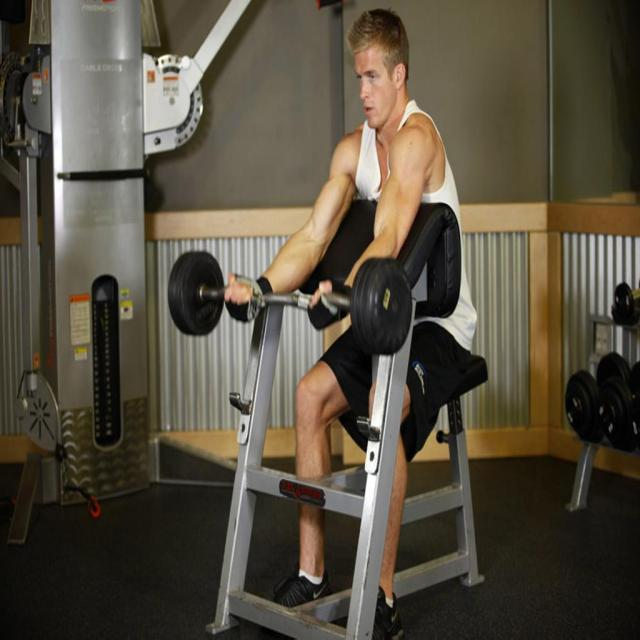Face: (358, 43, 396, 132)
